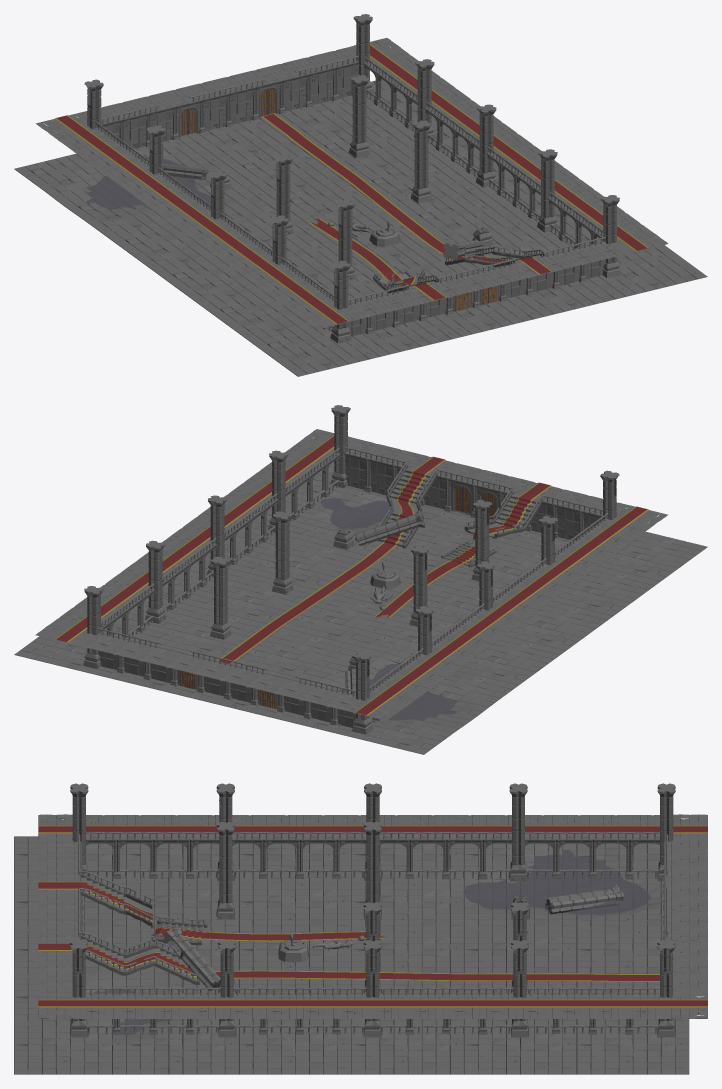
The model's file is Environment.fbx.
3 renders of one model, top to bottom at view 1: azimuth 30°, elevation 25°; view 2: azimuth 150°, elevation 25°; view 3: azimuth 270°, elevation 25°, orthographic. The views are drawn at different scales.
Parts seen in each view (by area): view 1: Plane.001, Balluster.001, Balcony.002, Balcony, Stairs, Plane.002, Balluster.013, Balluster.014, Balluster.009, Balluster.008, Balluster.020, Balluster.022 (+17 smaller); view 2: Plane.001, Balluster.001, Stairs, Balcony.002, Balcony, Plane.002, Plane.003, Balluster.013, Balluster.014, Balluster.010, Balluster, Balluster.023 (+16 smaller); view 3: Plane.001, Balluster.001, Stairs, Balcony.002, Balcony, Plane.002, Balluster.023, Balluster.017, Balluster.024, Balluster.015, Balluster.022, Balluster.003 (+14 smaller).
Part boxes in pixels (x1,y1,x2,y2): Plane.001: [14, 79, 707, 376]; Balluster.001: [53, 50, 650, 330]; Balcony.002: [74, 47, 358, 146]; Balcony: [341, 236, 629, 334]; Stairs: [262, 113, 552, 300]; Plane.002: [85, 154, 210, 210]; Balluster.013: [410, 120, 432, 203]; Balluster.014: [348, 75, 370, 158]; Balluster.009: [476, 104, 497, 187]; Balluster.008: [537, 149, 558, 232]; Balluster.020: [330, 260, 351, 343]; Balluster.022: [272, 154, 294, 235]; Plane.001: [14, 461, 707, 754]; Balluster.001: [53, 442, 650, 723]; Stairs: [182, 456, 551, 689]; Balcony.002: [74, 628, 362, 725]; Balcony: [344, 438, 629, 537]; Plane.002: [339, 662, 464, 720]; Plane.003: [318, 497, 390, 528]; Balluster.013: [272, 511, 293, 594]; Balluster.014: [210, 556, 231, 639]; Balluster.010: [145, 540, 166, 623]; Balluster: [330, 405, 350, 488]; Balluster.023: [471, 499, 493, 581]; Plane.001: [14, 836, 689, 1074]; Balluster.001: [80, 815, 665, 1034]; Stairs: [38, 870, 659, 984]; Balcony.002: [663, 834, 707, 996]; Balcony: [38, 834, 82, 996]; Plane.002: [455, 849, 652, 916]; Balluster.023: [216, 821, 234, 919]; Balluster.017: [509, 783, 527, 881]; Balluster.024: [545, 885, 624, 914]; Balluster.015: [162, 928, 220, 990]; Balluster.022: [363, 821, 381, 919]; Balluster.003: [38, 814, 80, 1018].
Bounding box in the file's own units: 8443 × 1657 × 10411.
